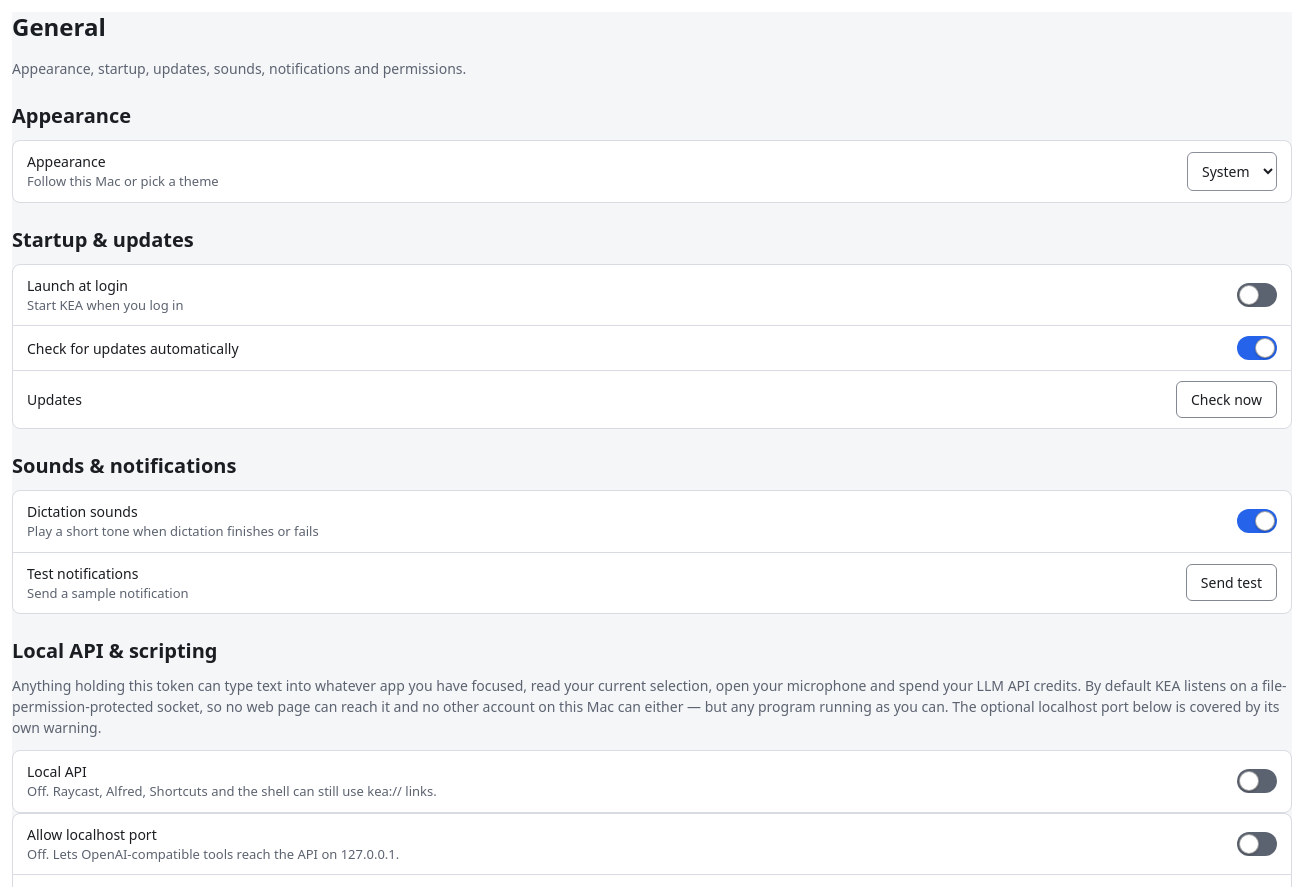
Test: GeneralPage › shows the localhost-port warning when the port is turned on
The image size is (1292, 887).
Click the switch named "Allow localhost port". click: coordinates (1257, 844)
box: [1237,832,1277,856]
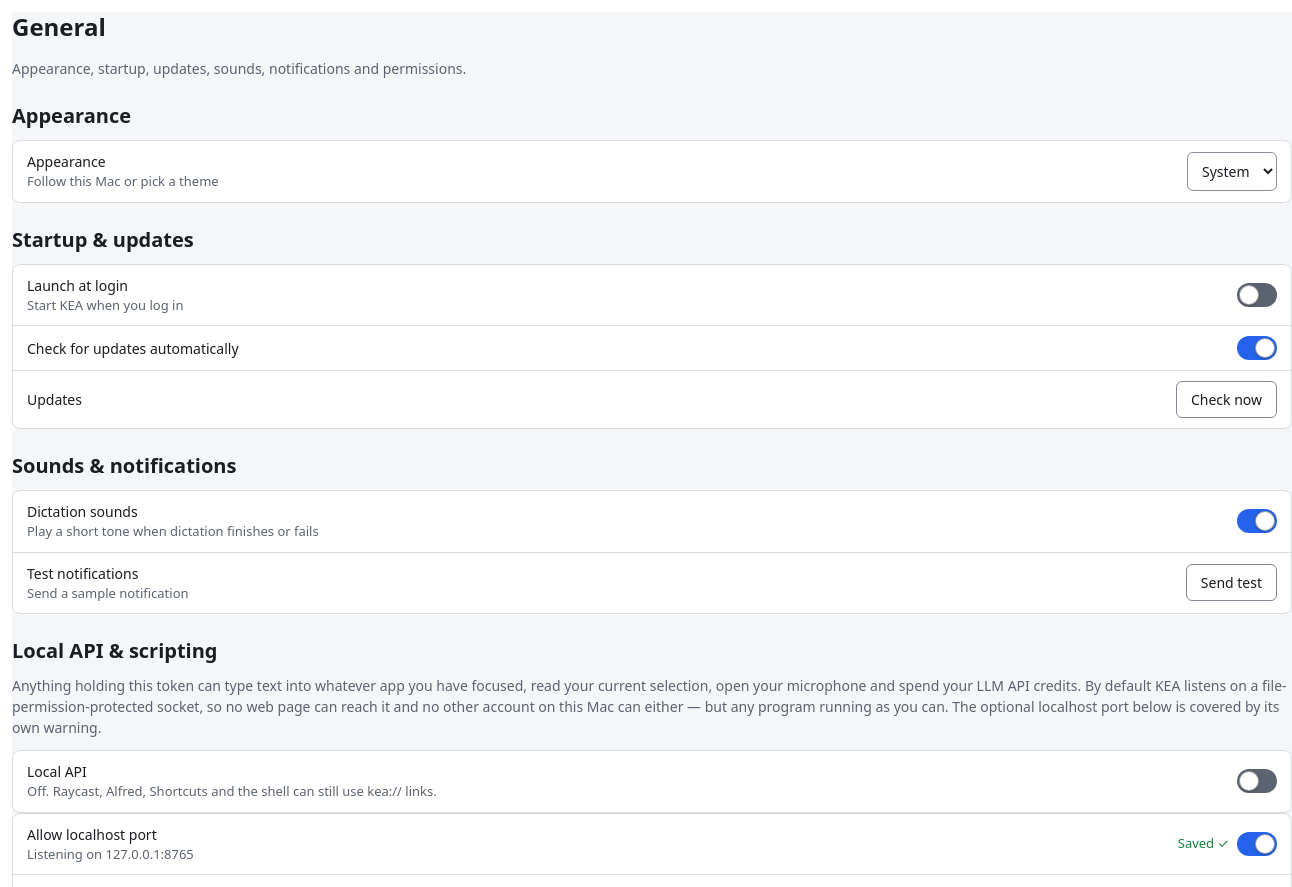
Expected: the text "Listening on 127.0.0.1:8765" is shown, [27,845,194,864]
